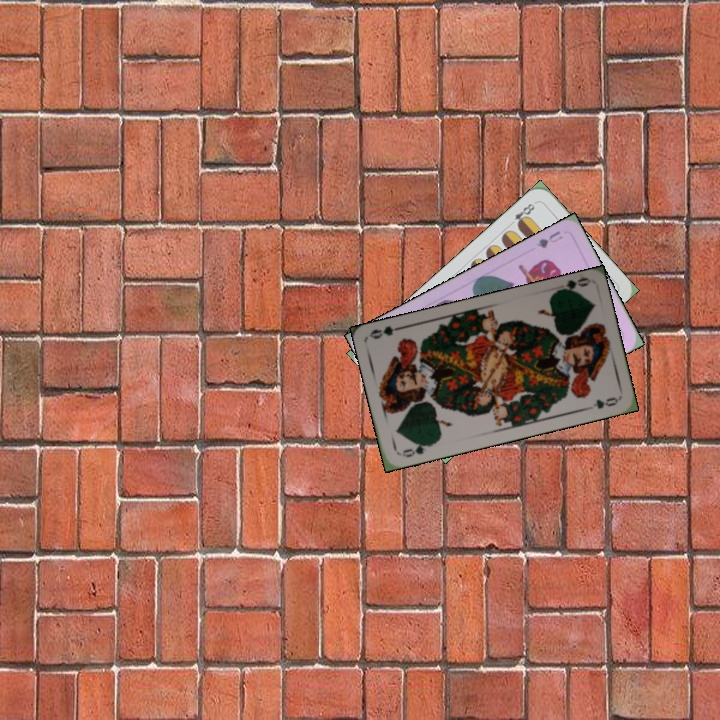E8: (505, 198, 539, 230)
GO: (551, 274, 591, 296), (396, 439, 436, 460)
GU: (533, 227, 565, 251)
